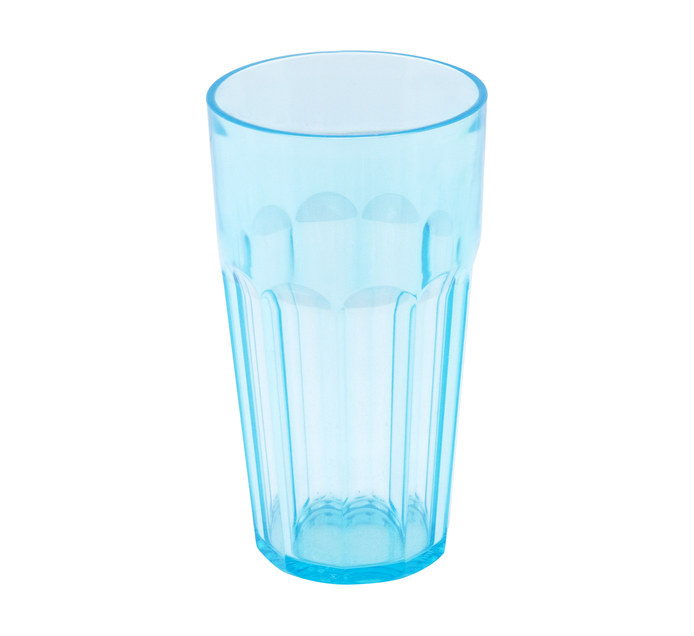plastic_bottle: (202, 45, 504, 593)
